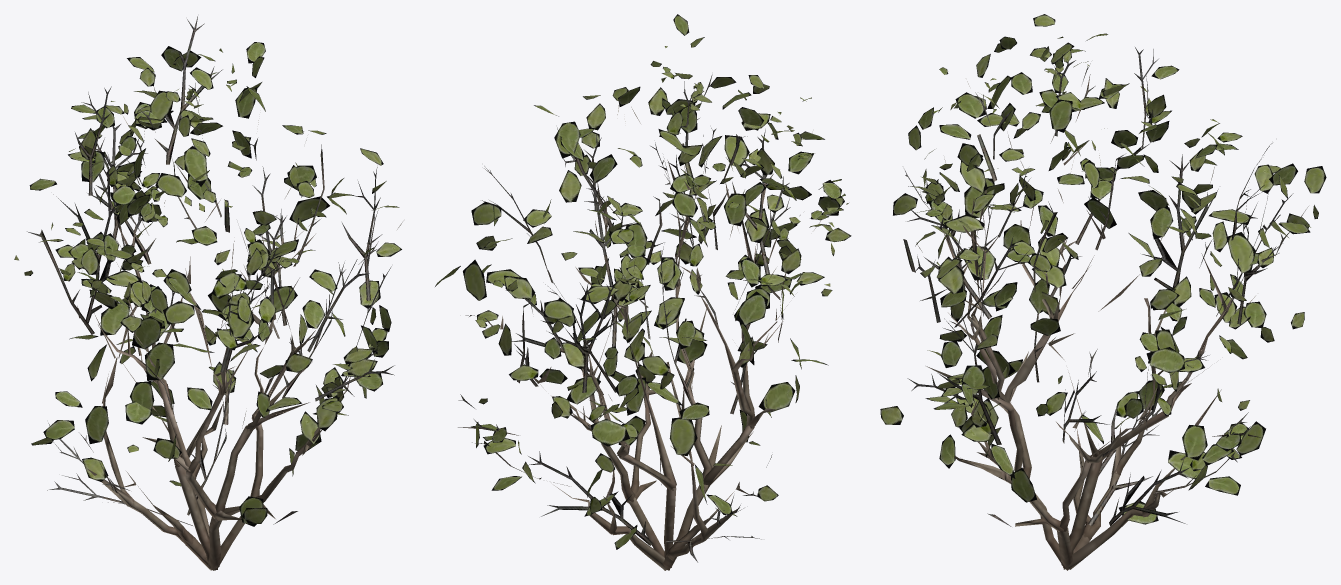
The model's file is arbuste_searsia_b_lod1.glb.
3 renders of one model, left to right at view 1: azimuth 30°, elevation 25°; view 2: azimuth 150°, elevation 25°; view 3: azimuth 270°, elevation 25°, orthographic. The views are drawn at different scales.
Parts seen in each view (by area): view 1: searsia_lucida_b_LOD0; view 2: searsia_lucida_b_LOD0; view 3: searsia_lucida_b_LOD0.
Part boxes in pixels (x1,y1,x2,y2): searsia_lucida_b_LOD0: [14, 16, 402, 570]; searsia_lucida_b_LOD0: [435, 14, 851, 570]; searsia_lucida_b_LOD0: [880, 14, 1326, 570].
Size of the model in its own units: 1.41 by 1.98 by 1.47.
Materials: 2 (2 with a texture image).
